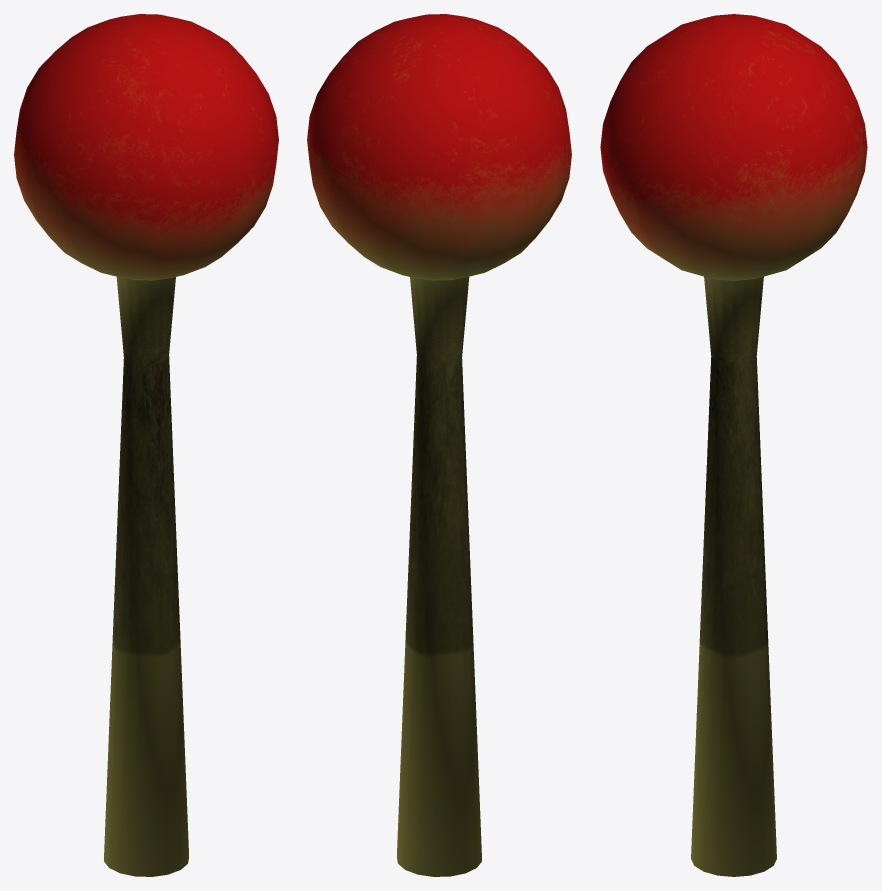
Rendered from RICHAG121.fbx.
3 renders of one model, left to right at view 1: azimuth 30°, elevation 25°; view 2: azimuth 150°, elevation 25°; view 3: azimuth 270°, elevation 25°, orthographic.
Parts seen in each view (by area): view 1: Sphere.001; view 2: Sphere.001; view 3: Sphere.001.
Boxes of the visible parts, x1,y1,x2,y2 form: Sphere.001: (14, 14, 278, 876); Sphere.001: (307, 14, 571, 876); Sphere.001: (600, 14, 867, 876).
Size of the model in its own units: 8.5 by 29.23 by 8.5.
